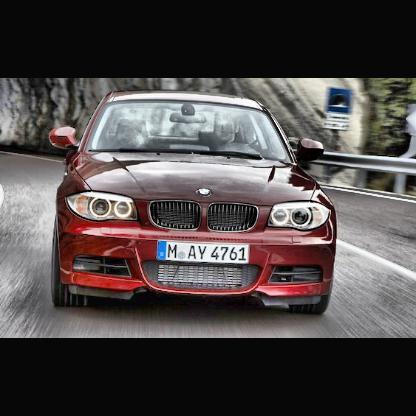BMW 1 Series Coupe 2012: (49, 88, 339, 318)
